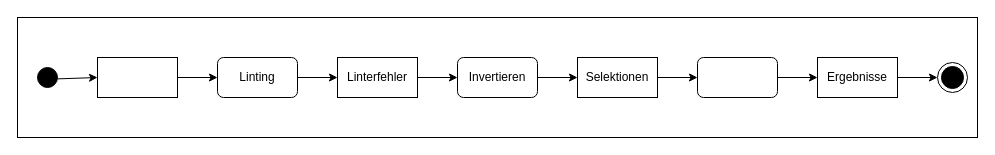
Image size: 995x155. Some labels were removed from this diagram. Here are the shapes that lost their labels. From the top down, the box of each, then its label:
(96, 56, 178, 98): OpenAPI Specs
(696, 56, 778, 98): Analysieren
